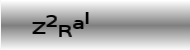2: (44, 13, 58, 28)
R: (56, 24, 72, 38)
Z: (31, 21, 47, 35)
a: (71, 18, 84, 30)
l: (83, 10, 90, 25)
